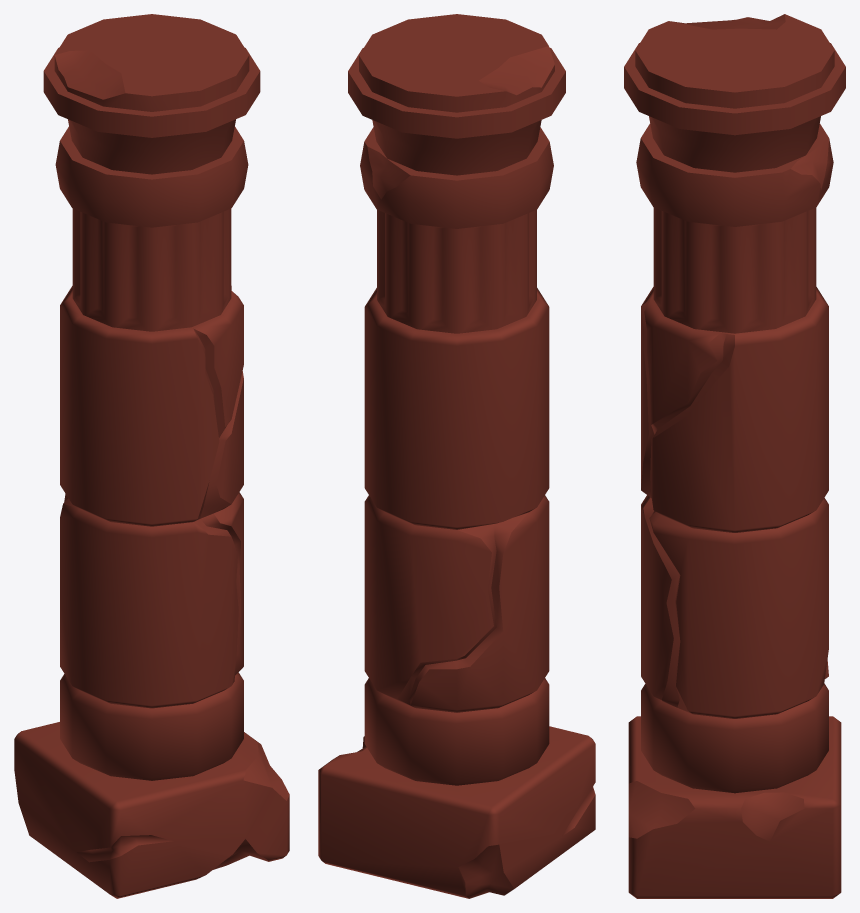
Rendered from column_001.fbx.
3 renders of one model, left to right at view 1: azimuth 30°, elevation 25°; view 2: azimuth 150°, elevation 25°; view 3: azimuth 270°, elevation 25°, orthographic. The views are drawn at different scales.
Visible parts, largest first — view 1: column_001; view 2: column_001; view 3: column_001.
Boxes of the visible parts, x1,y1,x2,y2 form: column_001: (14,14,289,898); column_001: (318,14,595,898); column_001: (624,14,845,898).
Size of the model in its own units: 396 by 396 by 1591.
